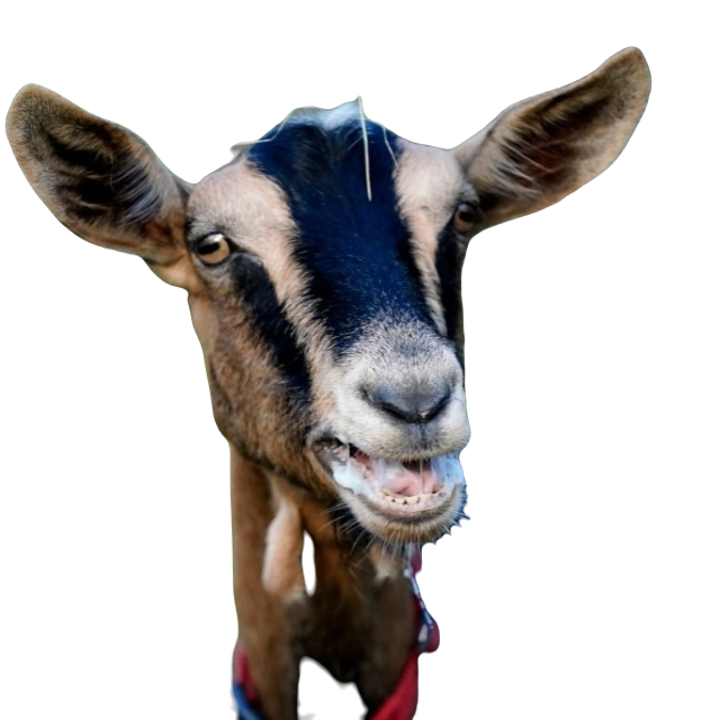Goat: (2, 48, 651, 719)
